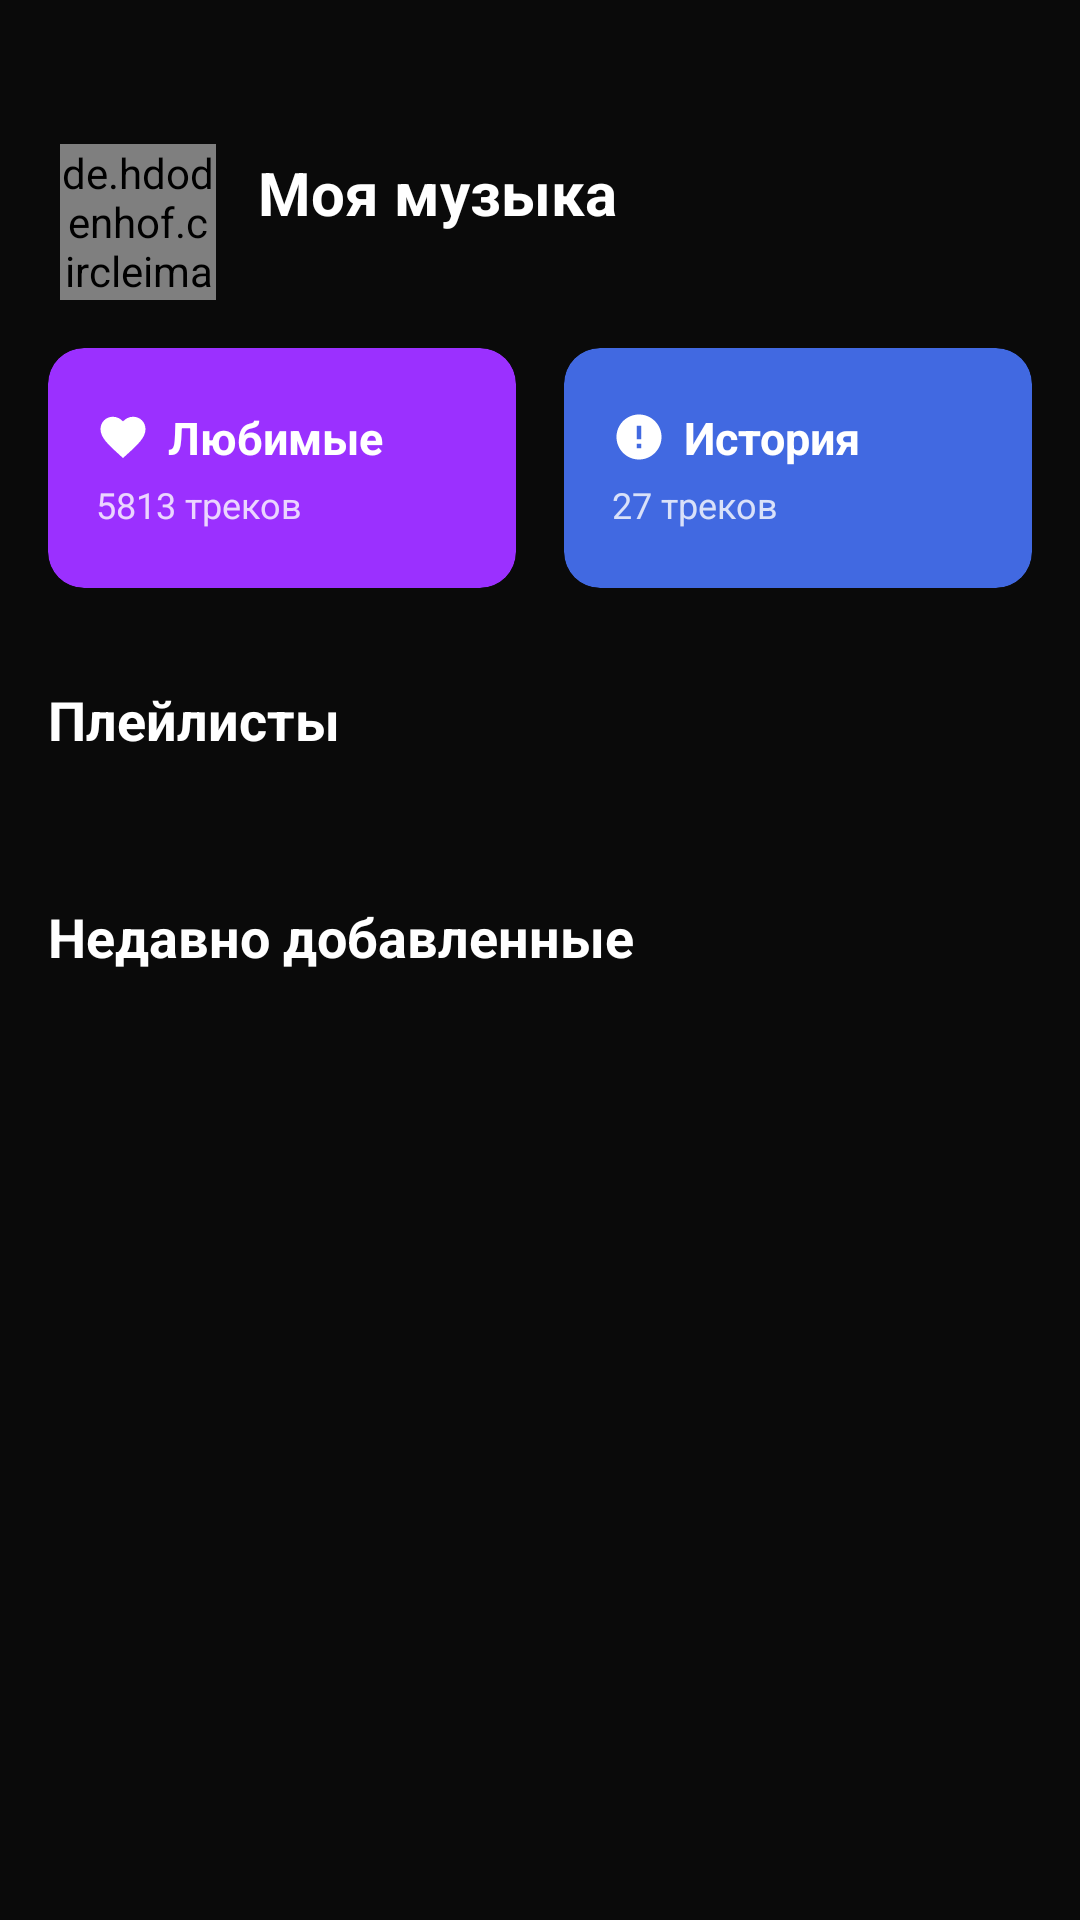

Icons on this 1080×1920 Android screen, each with the point to tap as (x,y):
Favorites: (123,437)
